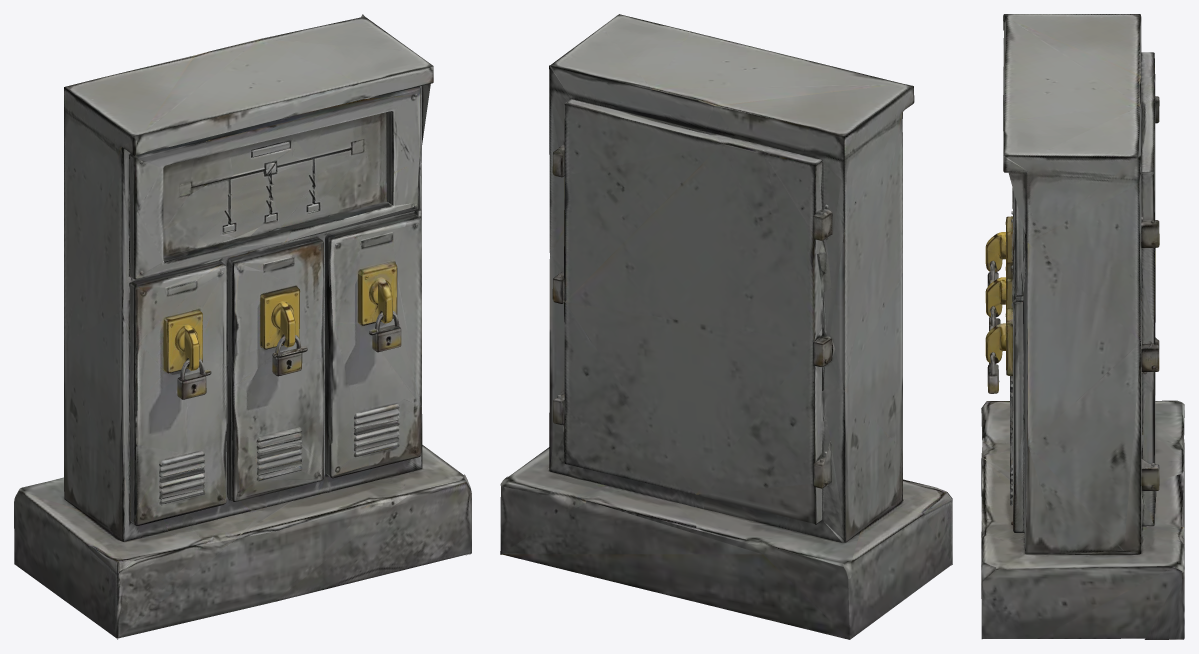
The model's file is rmu.glb.
3 views of the same model, side by side, from view 1: azimuth 30°, elevation 25°; view 2: azimuth 150°, elevation 25°; view 3: azimuth 270°, elevation 25° (orthographic). The views are drawn at different scales.
Size of the model in its own units: 1.45 by 1.9 by 0.7418.
Materials: 1 (1 with a texture image).
